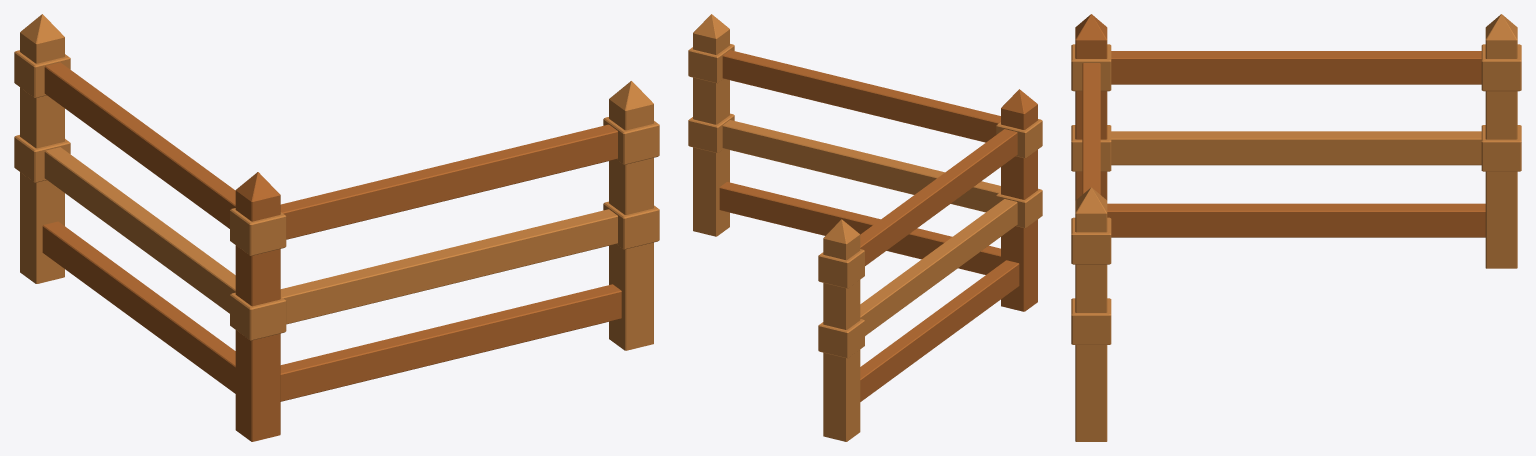
Rendered from Wooden Fence Corner.glb.
3 renders of one model, left to right at view 1: azimuth 30°, elevation 25°; view 2: azimuth 150°, elevation 25°; view 3: azimuth 270°, elevation 25°, orthographic. The views are drawn at different scales.
Parts seen in each view (by area): view 1: Wooden Fence Corner; view 2: Wooden Fence Corner; view 3: Wooden Fence Corner.
Part boxes in pixels (x1,y1,x2,y2): Wooden Fence Corner: [14, 14, 659, 441]; Wooden Fence Corner: [688, 14, 1042, 441]; Wooden Fence Corner: [1071, 14, 1521, 441].
Size of the model in its own units: 1.98 by 1.2 by 1.98.
